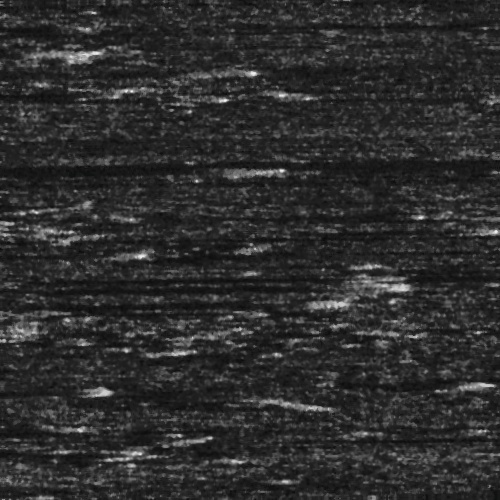object: (0, 433, 306, 458), (159, 161, 336, 174), (0, 40, 131, 57), (331, 266, 436, 287), (137, 62, 294, 75), (336, 277, 441, 296), (271, 294, 376, 309), (266, 398, 349, 411), (38, 18, 121, 29), (109, 245, 192, 256), (429, 213, 500, 224), (433, 379, 496, 390), (434, 228, 500, 237), (65, 380, 106, 391), (471, 20, 500, 29), (482, 94, 500, 103), (476, 496, 500, 500), (0, 420, 8, 427)
shadow: (0, 153, 500, 176), (35, 266, 383, 287), (205, 254, 500, 277), (40, 277, 388, 296), (0, 294, 323, 309), (0, 161, 247, 174), (0, 433, 128, 458), (0, 62, 215, 75), (128, 398, 308, 411), (265, 20, 500, 29), (312, 434, 500, 445), (271, 94, 500, 103), (290, 379, 464, 390), (306, 213, 470, 224), (0, 245, 150, 256), (318, 228, 487, 237), (379, 489, 500, 498), (380, 376, 500, 385), (0, 380, 85, 391), (0, 40, 53, 57), (0, 18, 79, 29), (362, 250, 500, 255), (422, 496, 500, 500), (490, 274, 500, 281)
